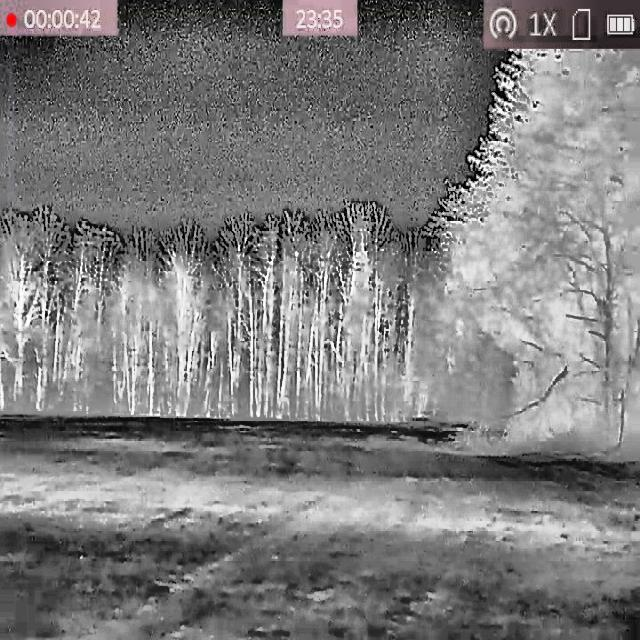drone: (294, 248, 300, 259)
